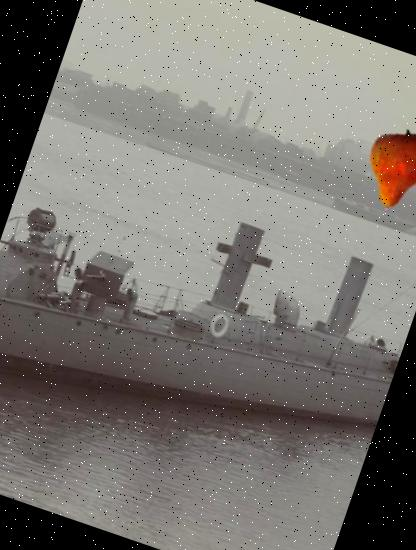Pear: (347, 117, 416, 221)
